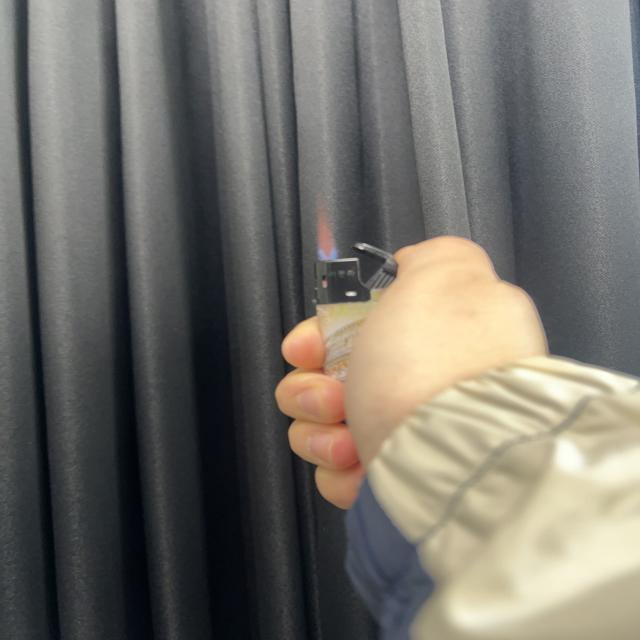fire: (314, 195, 339, 263)
